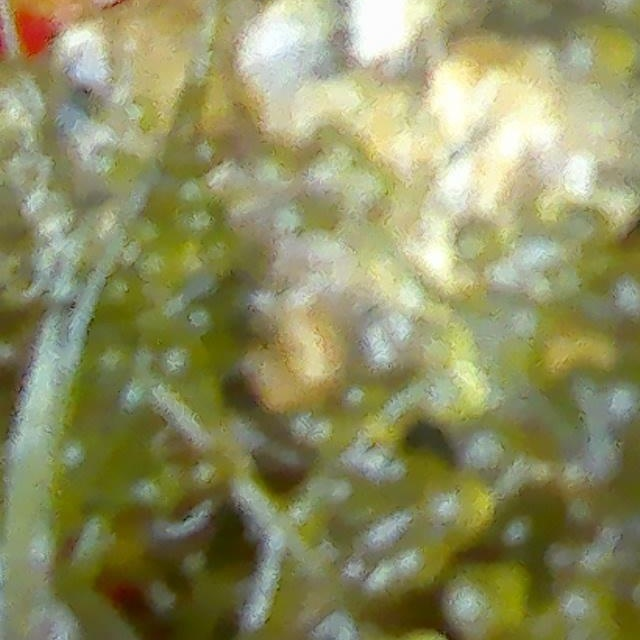SeaGrape: (411, 467, 498, 541), (446, 568, 517, 636)
